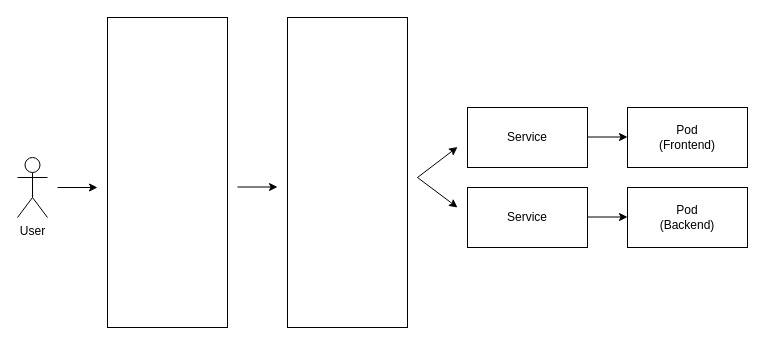
This 765x345 diagram has some shape labels left out. The centre of each missing label's shape, as x and y in pixels:
"Ingerss Controller (External IP)" goes at (x=167, y=172).
"Ingress Object (URL Based Route)" goes at (x=347, y=172).
